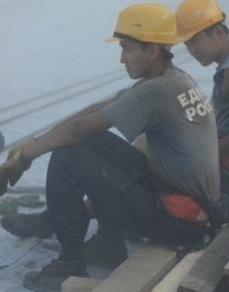boots: (0, 208, 54, 237), (82, 232, 128, 265)
gloves: (0, 146, 32, 184), (0, 144, 20, 196)
hard-hat: (0, 64, 23, 114)
